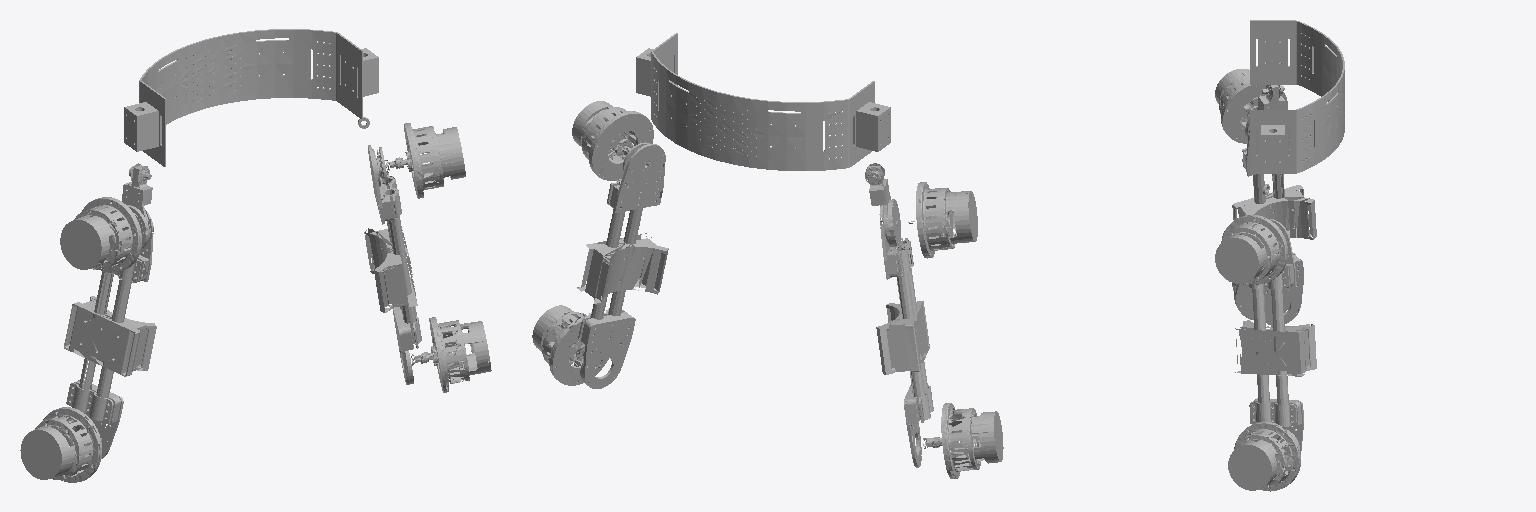
robot.urdf — MkI_FA900_Full_Body_Assembly:
<?xml version="1.0" encoding="utf-8"?>
<!-- This URDF was automatically created by SolidWorks to URDF Exporter! Originally created by Stephen Brawner (brawner@gmail.com) 
     Commit Version: 1.6.0-4-g7f85cfe  Build Version: 1.6.7995.38578
     For more information, please see http://wiki.ros.org/sw_urdf_exporter -->
<robot
  name="MkI_FA900_Full_Body_Assembly">
  <mujoco>
    <compiler discardvisual="false" fusestatic="false"/>
  </mujoco>
  <link
    name="base_link">
    <inertial>
      <origin
        xyz="1.13454632136528 -1.07918507745344 1.18491273790613"
        rpy="0 0 0" />
      <mass
        value="1.50240017687001" />
      <inertia
        ixx="0.00685013233705329"
        ixy="-5.71762398942911E-09"
        ixz="1.91160278515889E-09"
        iyy="0.0352460134795295"
        iyz="1.64301524584819E-05"
        izz="0.03722028873885" />
    </inertial>
    <visual>
      <origin
        xyz="0 0 0"
        rpy="0 0 0" />
      <geometry>
        <mesh
          filename="meshes_hi/base_link.STL" />
      </geometry>
      <material
        name="">
        <color
          rgba="0.752941176470588 0.752941176470588 0.752941176470588 1" />
      </material>
    </visual>
    <collision>
      <origin
        xyz="0 0 0"
        rpy="0 0 0" />
      <geometry>
        <mesh
          filename="meshes_hi/base_link.STL" />
      </geometry>
    </collision>
  </link>
  <link
    name="hip_clevis_link_right">
    <inertial>
      <origin
        xyz="-3.33066907387547E-16 -0.00726576791403666 -4.44089209850063E-16"
        rpy="0 0 0" />
      <mass
        value="0.466972615343334" />
      <inertia
        ixx="0.000222972020419986"
        ixy="5.29329887462781E-19"
        ixz="-3.54821106379241E-06"
        iyy="0.000133191989604653"
        iyz="-5.07411523210165E-19"
        izz="0.000216252449043235" />
    </inertial>
    <visual>
      <origin
        xyz="0 0 0"
        rpy="0 0 0" />
      <geometry>
        <mesh
          filename="meshes_hi/hip_clevis_link_right.STL" />
      </geometry>
      <material
        name="">
        <color
          rgba="0.752941176470588 0.752941176470588 0.752941176470588 1" />
      </material>
    </visual>
    <collision>
      <origin
        xyz="0 0 0"
        rpy="0 0 0" />
      <geometry>
        <mesh
          filename="meshes_hi/hip_clevis_link_right.STL" />
      </geometry>
    </collision>
  </link>
  <joint
    name="hip_clevis_right"
    type="revolute">
    <origin
      xyz="0.87406 -1.1454 1.1226"
      rpy="1.5708 0 0" />
    <parent
      link="base_link" />
    <child
      link="hip_clevis_link_right" />
    <axis
      xyz="0 1 0" />
    <limit
      lower="-6.28318"
      upper="6.28318"
      effort="100"
      velocity="6.28318" />
  </joint>
  <link
    name="hip_joint_link_right">
    <inertial>
      <origin
        xyz="-0.0738587973675588 -0.0772059585847031 0.00456926061298146"
        rpy="0 0 0" />
      <mass
        value="1.68137131030721" />
      <inertia
        ixx="0.00225811795875441"
        ixy="-0.000150603982150262"
        ixz="-0.000327985741947893"
        iyy="0.00132080860550804"
        iyz="6.33428769359226E-05"
        izz="0.00163407723720338" />
    </inertial>
    <visual>
      <origin
        xyz="0 0 0"
        rpy="0 0 0" />
      <geometry>
        <mesh
          filename="meshes_hi/hip_joint_link_right.STL" />
      </geometry>
      <material
        name="">
        <color
          rgba="0.752941176470588 0.752941176470588 0.752941176470588 1" />
      </material>
    </visual>
    <collision>
      <origin
        xyz="0 0 0"
        rpy="0 0 0" />
      <geometry>
        <mesh
          filename="meshes_hi/hip_joint_link_right.STL" />
      </geometry>
    </collision>
  </link>
  <joint
    name="hip_joint_right"
    type="revolute">
    <origin
      xyz="0.0098811 -0.04195 0.022964"
      rpy="0 0 0" />
    <parent
      link="hip_clevis_link_right" />
    <child
      link="hip_joint_link_right" />
    <axis
      xyz="0.39524 0 0.91858" />
    <limit
      lower="-6.2832"
      upper="6.2832"
      effort="100"
      velocity="6.2832" />
  </joint>
  <link
    name="thigh_link_right">
    <inertial>
      <origin
        xyz="-0.0494254389680043 -0.212022404834767 -0.00727635688692518"
        rpy="0 0 0" />
      <mass
        value="1.5922857442695" />
      <inertia
        ixx="0.00468985754642177"
        ixy="-0.000389524044074753"
        ixz="-0.000773866916895793"
        iyy="0.00242185935229181"
        iyz="9.44580487916746E-05"
        izz="0.00325176616551252" />
    </inertial>
    <visual>
      <origin
        xyz="0 0 0"
        rpy="0 0 0" />
      <geometry>
        <mesh
          filename="meshes_hi/thigh_link_right.STL" />
      </geometry>
      <material
        name="">
        <color
          rgba="0.752941176470588 0.752941176470588 0.752941176470588 1" />
      </material>
    </visual>
    <collision>
      <origin
        xyz="0 0 0"
        rpy="0 0 0" />
      <geometry>
        <mesh
          filename="meshes_hi/thigh_link_right.STL" />
      </geometry>
    </collision>
  </link>
  <joint
    name="thigh_right"
    type="revolute">
    <origin
      xyz="-0.029489 -0.10965 -0.014528"
      rpy="0 0 0" />
    <parent
      link="hip_joint_link_right" />
    <child
      link="thigh_link_right" />
    <axis
      xyz="-0.90863 0.14673 0.39097" />
    <limit
      lower="-6.2832"
      upper="6.2832"
      effort="100"
      velocity="6.2832" />
  </joint>
  <link
    name="shank_link_right">
    <inertial>
      <origin
        xyz="-0.0530120475356364 -0.0679455062843468 0.0250066628763099"
        rpy="0 0 0" />
      <mass
        value="2.15650139713753" />
      <inertia
        ixx="0.00573226013387894"
        ixy="-0.000503625856860594"
        ixz="-0.000559889266736531"
        iyy="0.00217926979392424"
        iyz="0.000287036308117272"
        izz="0.00464652738964108" />
    </inertial>
    <visual>
      <origin
        xyz="0 0 0"
        rpy="0 0 0" />
      <geometry>
        <mesh
          filename="meshes_hi/shank_link_right.STL" />
      </geometry>
      <material
        name="">
        <color
          rgba="0.752941176470588 0.752941176470588 0.752941176470588 1" />
      </material>
    </visual>
    <collision>
      <origin
        xyz="0 0 0"
        rpy="0 0 0" />
      <geometry>
        <mesh
          filename="meshes_hi/shank_link_right.STL" />
      </geometry>
    </collision>
  </link>
  <joint
    name="shank_right"
    type="revolute">
    <origin
      xyz="-0.075414 -0.46312 -0.029215"
      rpy="0 0 0" />
    <parent
      link="thigh_link_right" />
    <child
      link="shank_link_right" />
    <axis
      xyz="-0.90863 0.14673 0.39097" />
    <limit
      lower="-6.2832"
      upper="6.2832"
      effort="100"
      velocity="6.2832" />
  </joint>
  <link
    name="hip_clevis_link_left">
    <inertial>
      <origin
        xyz="-8.88178419700125E-16 -0.0072657679140371 -1.55431223447522E-15"
        rpy="0 0 0" />
      <mass
        value="0.466972615343334" />
      <inertia
        ixx="0.000222972020419986"
        ixy="-1.92997595789265E-19"
        ixz="3.54821106379276E-06"
        iyy="0.000133191989604653"
        iyz="-9.0155437993862E-19"
        izz="0.000216252449043234" />
    </inertial>
    <visual>
      <origin
        xyz="0 0 0"
        rpy="0 0 0" />
      <geometry>
        <mesh
          filename="meshes_hi/hip_clevis_link_left.STL" />
      </geometry>
      <material
        name="">
        <color
          rgba="0.752941176470588 0.752941176470588 0.752941176470588 1" />
      </material>
    </visual>
    <collision>
      <origin
        xyz="0 0 0"
        rpy="0 0 0" />
      <geometry>
        <mesh
          filename="meshes_hi/hip_clevis_link_left.STL" />
      </geometry>
    </collision>
  </link>
  <joint
    name="hip_clevis_left"
    type="revolute">
    <origin
      xyz="1.395 -1.1454 1.1226"
      rpy="1.5708 0 0" />
    <parent
      link="base_link" />
    <child
      link="hip_clevis_link_left" />
    <axis
      xyz="0 1 0" />
    <limit
      lower="-6.28318"
      upper="6.28318"
      effort="100"
      velocity="6.28318" />
  </joint>
  <link
    name="hip_joint_link_left">
    <inertial>
      <origin
        xyz="0.0738587925005134 -0.0772059568385575 0.00456926011003134"
        rpy="0 0 0" />
      <mass
        value="1.68137120473183" />
      <inertia
        ixx="0.00225536612690709"
        ixy="0.000149311787578267"
        ixz="0.000333757938890356"
        iyy="0.00133186675753356"
        iyz="5.9394181359417E-05"
        izz="0.00162577071138396" />
    </inertial>
    <visual>
      <origin
        xyz="0 0 0"
        rpy="0 0 0" />
      <geometry>
        <mesh
          filename="meshes_hi/hip_joint_link_left.STL" />
      </geometry>
      <material
        name="">
        <color
          rgba="0.752941176470588 0.752941176470588 0.752941176470588 1" />
      </material>
    </visual>
    <collision>
      <origin
        xyz="0 0 0"
        rpy="0 0 0" />
      <geometry>
        <mesh
          filename="meshes_hi/hip_joint_link_left.STL" />
      </geometry>
    </collision>
  </link>
  <joint
    name="hip_joint_left"
    type="revolute">
    <origin
      xyz="-0.0098811 -0.04195 0.022964"
      rpy="0 0 0" />
    <parent
      link="hip_clevis_link_left" />
    <child
      link="hip_joint_link_left" />
    <axis
      xyz="0.39524 0 -0.91858" />
    <limit
      lower="-6.28318"
      upper="6.28318"
      effort="100"
      velocity="6.28318" />
  </joint>
  <link
    name="thigh_link_left">
    <inertial>
      <origin
        xyz="0.0494254390910918 -0.212022407355561 -0.00727635626015766"
        rpy="0 0 0" />
      <mass
        value="1.59228574760747" />
      <inertia
        ixx="0.00468985775379823"
        ixy="0.000389523359226084"
        ixz="0.000773866674138628"
        iyy="0.00242185894341371"
        iyz="9.44595034159161E-05"
        izz="0.00325176639589045" />
    </inertial>
    <visual>
      <origin
        xyz="0 0 0"
        rpy="0 0 0" />
      <geometry>
        <mesh
          filename="meshes_hi/thigh_link_left.STL" />
      </geometry>
      <material
        name="">
        <color
          rgba="0.752941176470588 0.752941176470588 0.752941176470588 1" />
      </material>
    </visual>
    <collision>
      <origin
        xyz="0 0 0"
        rpy="0 0 0" />
      <geometry>
        <mesh
          filename="meshes_hi/thigh_link_left.STL" />
      </geometry>
    </collision>
  </link>
  <joint
    name="thigh_left"
    type="revolute">
    <origin
      xyz="0.029489 -0.10965 -0.014528"
      rpy="0 0 0" />
    <parent
      link="hip_joint_link_left" />
    <child
      link="thigh_link_left" />
    <axis
      xyz="0.90863 0.14673 0.39097" />
    <limit
      lower="-6.28318"
      upper="6.28318"
      effort="100"
      velocity="6.28318" />
  </joint>
  <link
    name="shank_link_left">
    <inertial>
      <origin
        xyz="0.0530120828971139 -0.067945489252669 0.0250065954480521"
        rpy="0 0 0" />
      <mass
        value="2.15650133812256" />
      <inertia
        ixx="0.00573452834001741"
        ixy="0.000506461362025846"
        ixz="0.000555476110537521"
        iyy="0.00216843876924884"
        iyz="0.000282076244825684"
        izz="0.00465508954345593" />
    </inertial>
    <visual>
      <origin
        xyz="0 0 0"
        rpy="0 0 0" />
      <geometry>
        <mesh
          filename="meshes_hi/shank_link_left.STL" />
      </geometry>
      <material
        name="">
        <color
          rgba="0.752941176470588 0.752941176470588 0.752941176470588 1" />
      </material>
    </visual>
    <collision>
      <origin
        xyz="0 0 0"
        rpy="0 0 0" />
      <geometry>
        <mesh
          filename="meshes_hi/shank_link_left.STL" />
      </geometry>
    </collision>
  </link>
  <joint
    name="shank_left"
    type="revolute">
    <origin
      xyz="0.075414 -0.46312 -0.029215"
      rpy="0 0 0" />
    <parent
      link="thigh_link_left" />
    <child
      link="shank_link_left" />
    <axis
      xyz="0.90863 0.14673 0.39097" />
    <limit
      lower="-6.28318"
      upper="6.28318"
      effort="100"
      velocity="6.28318" />
  </joint>
</robot>

--- Facts derived from the render (not from the file) ---
Views: 3 orthographic renders of the robot side by side, from view 1: azimuth 30°, elevation 25°; view 2: azimuth 150°, elevation 25°; view 3: azimuth 270°, elevation 25°.
Model MkI_FA900_Full_Body_Assembly with 9 links and 8 joints (8 revolute), rooted at base_link, posed all joints at 0.
Links seen in each view (by area): view 1: base_link, thigh_link_right, hip_joint_link_right, thigh_link_left, shank_link_right, hip_joint_link_left, shank_link_left; view 2: base_link, thigh_link_left, thigh_link_right, hip_joint_link_right, hip_joint_link_left, shank_link_right, shank_link_left; view 3: base_link, thigh_link_left, thigh_link_right, hip_joint_link_left, shank_link_left, hip_joint_link_right, shank_link_right.
Link boxes in pixels (x1,y1,x2,y2): base_link: (124, 29, 378, 166); thigh_link_right: (64, 210, 156, 458); hip_joint_link_right: (60, 163, 152, 272); thigh_link_left: (364, 145, 421, 384); shank_link_right: (20, 407, 101, 482); hip_joint_link_left: (385, 123, 465, 198); shank_link_left: (411, 317, 491, 392); base_link: (636, 33, 890, 170); thigh_link_left: (577, 142, 668, 388); thigh_link_right: (876, 203, 933, 467); hip_joint_link_right: (865, 163, 977, 258); hip_joint_link_left: (572, 101, 653, 180); shank_link_right: (923, 403, 1003, 478); shank_link_left: (532, 305, 608, 385); base_link: (1250, 20, 1344, 173); thigh_link_left: (1235, 219, 1316, 467); thigh_link_right: (1232, 128, 1316, 325); hip_joint_link_left: (1215, 215, 1287, 284); shank_link_left: (1228, 422, 1300, 491); hip_joint_link_right: (1215, 69, 1287, 143); shank_link_right: (1232, 283, 1289, 319).
Size in the robot's own frame: 1.08 by 0.2839 by 0.8187 metres.
Meshes: 9 distinct files referenced, 9 mesh visuals loaded (9 binary STL).
